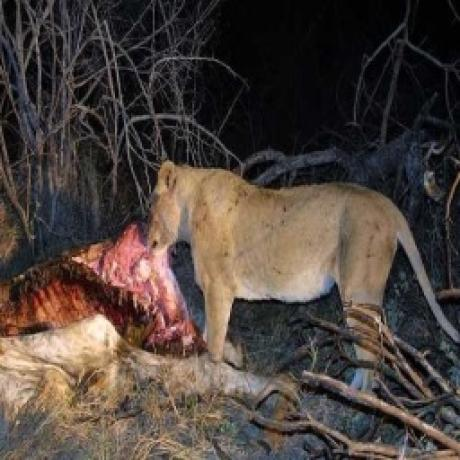Lion: (142, 158, 460, 395)
